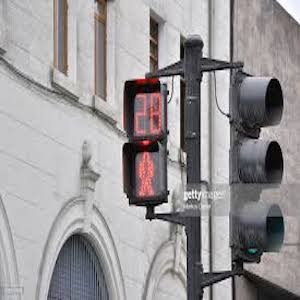red: (135, 147, 167, 194)
